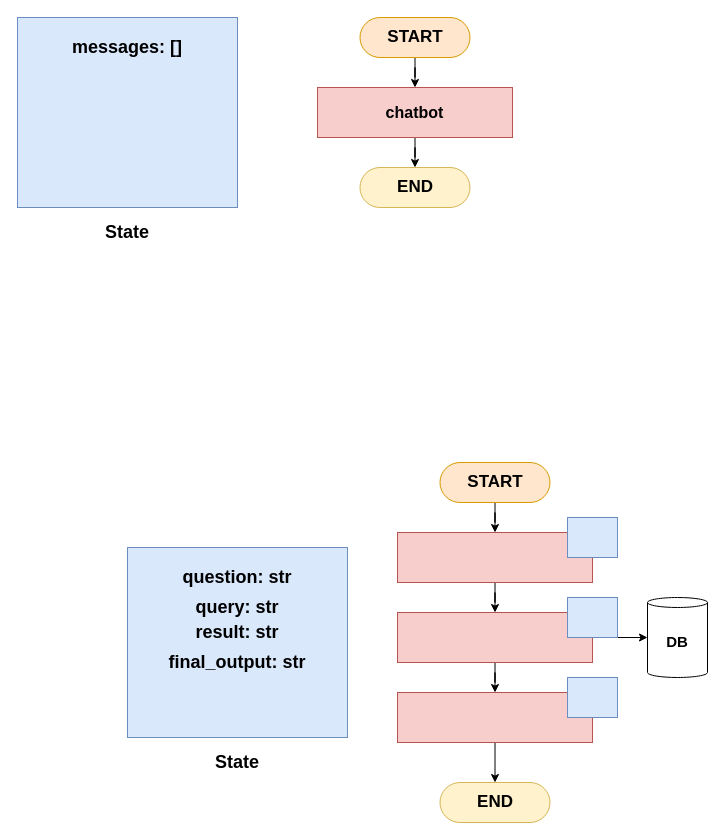
Image size: 725x840. Some labels were removed from this diagram. Each missing label, with the box of its shape:
execute_query: (396, 612, 592, 662)
format_result: (396, 692, 592, 742)
generate_query: (396, 532, 592, 582)
